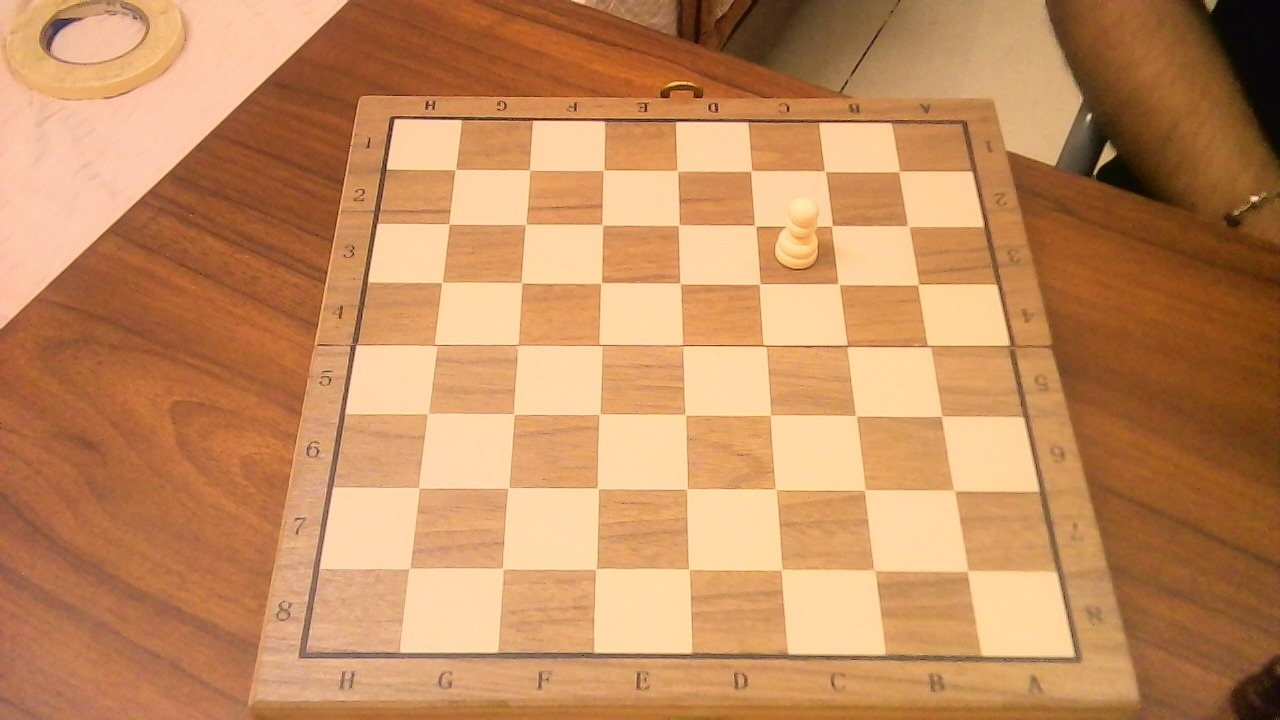P: (767, 186, 828, 273)
